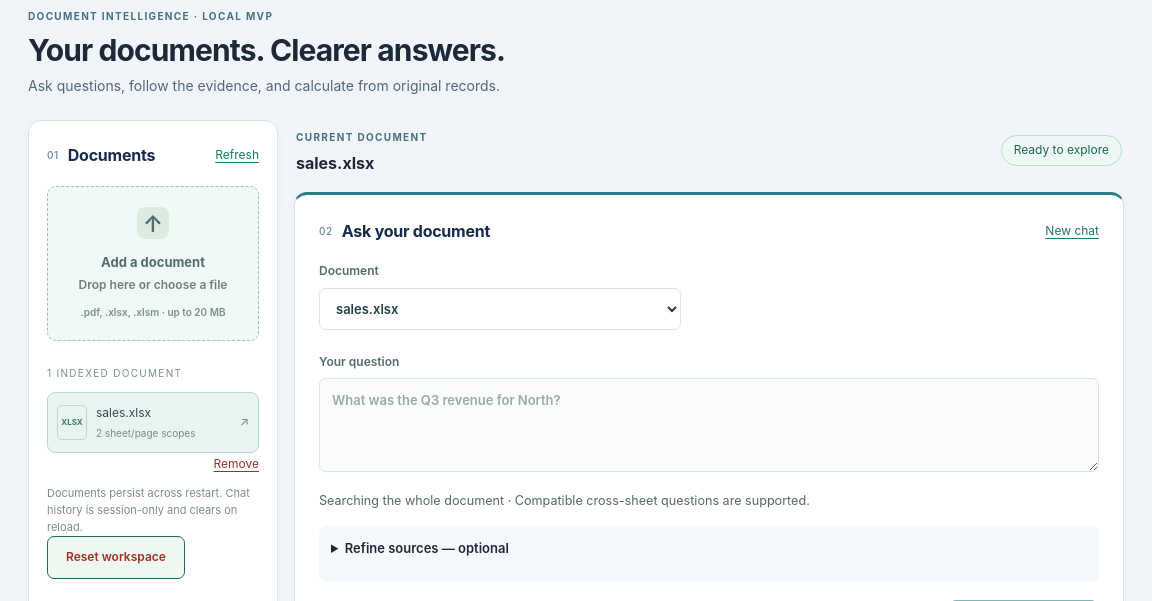
Scenario: browser source-record selector finds the rendered choice and submits its actual confirmation
Type "SUM Q3 Revenue across the source records" into the text box labelled "Your question" at coordinates (709, 425), box [319,378,1099,472]
(page scrolled)
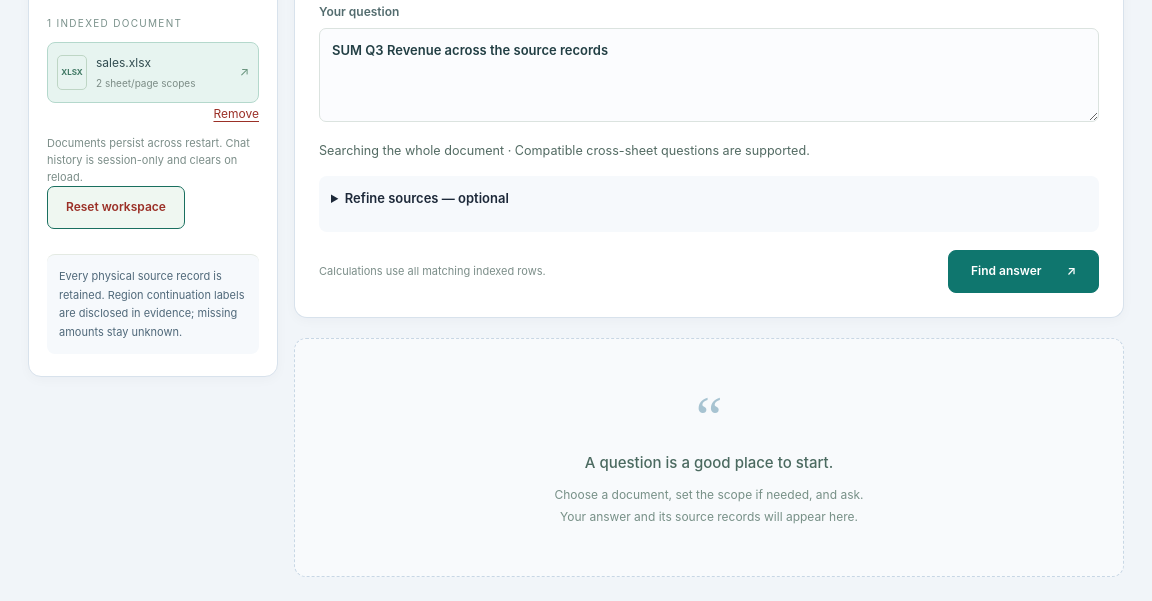
Click the button "Find answer ↗" at coordinates (1024, 272), box [948,250,1099,293]
(page scrolled)
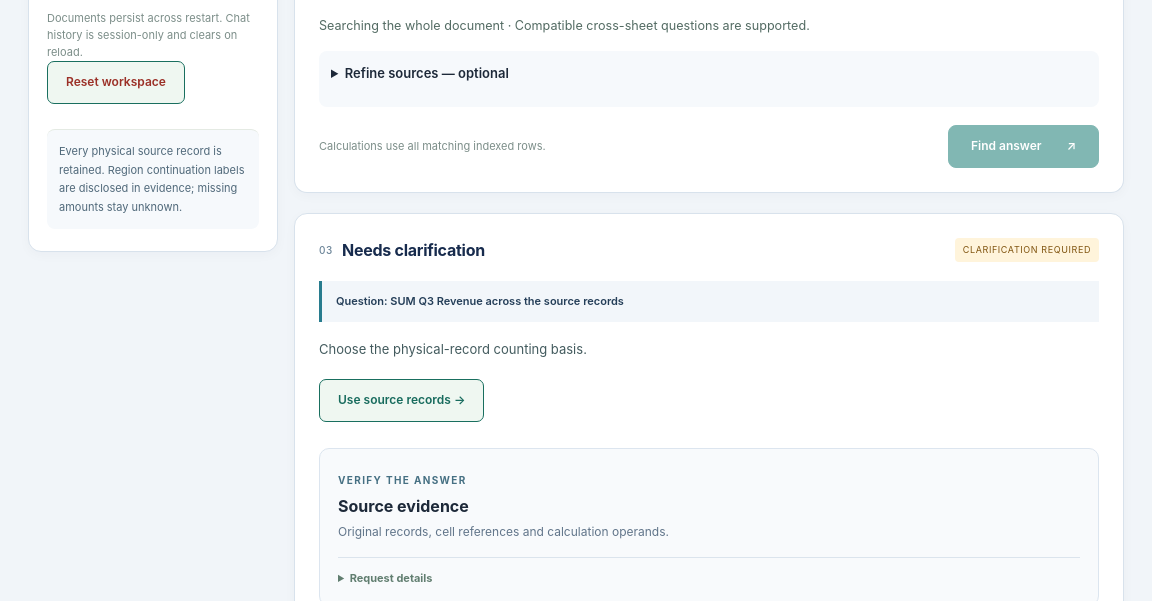
Result: the text "Choose the physical-record counting basis." is shown at [319,341,587,357]
Click the button "Use source records →" at coordinates (402, 400), box [319,379,484,422]
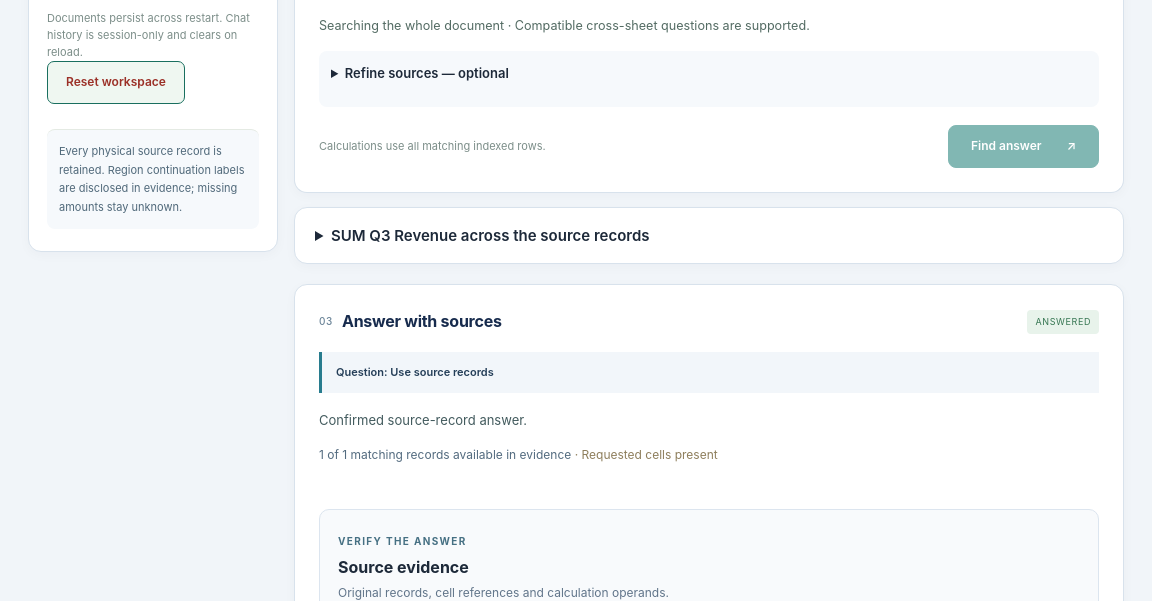
Result: the text "Confirmed source-record answer." is shown at [319,412,527,428]
